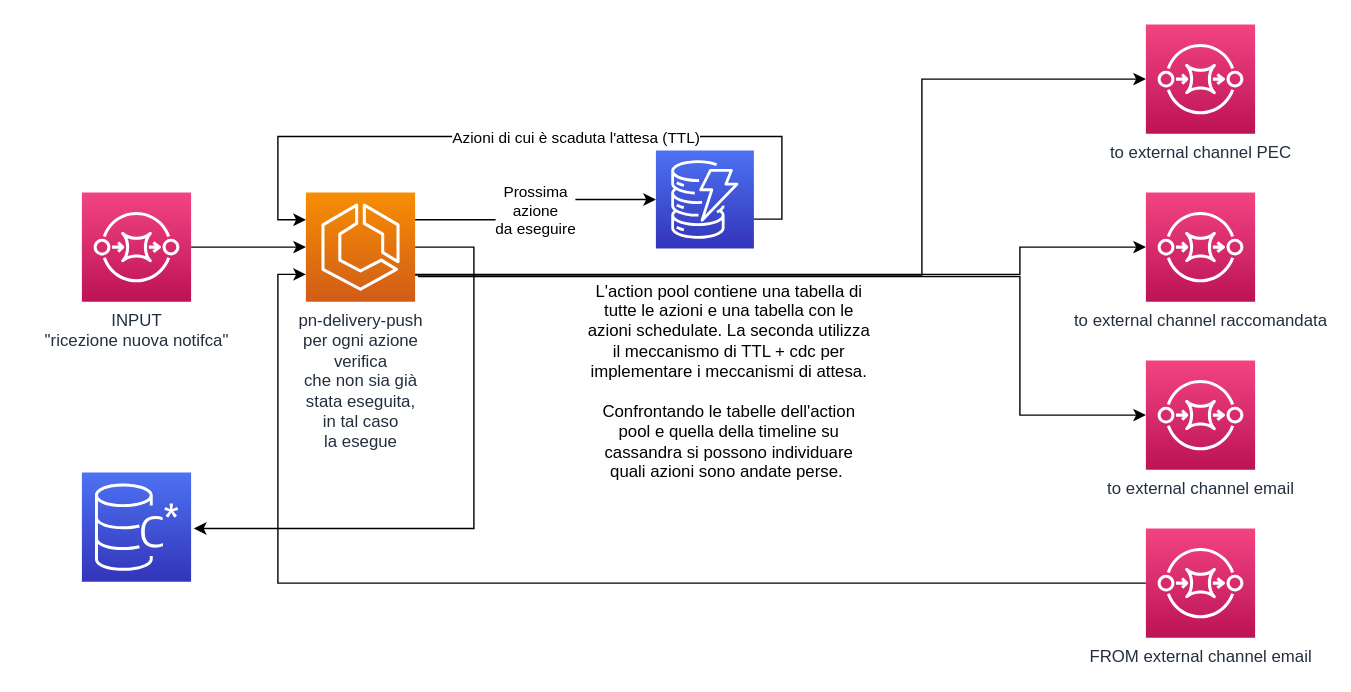
This 1351x692 diagram has some shape labels left out. The centre of each missing label's shape, as x and y in pixels:
"Action Pool" goes at [704,198].
"KeyIUN value timeline azione eseguita" goes at [135,526].
